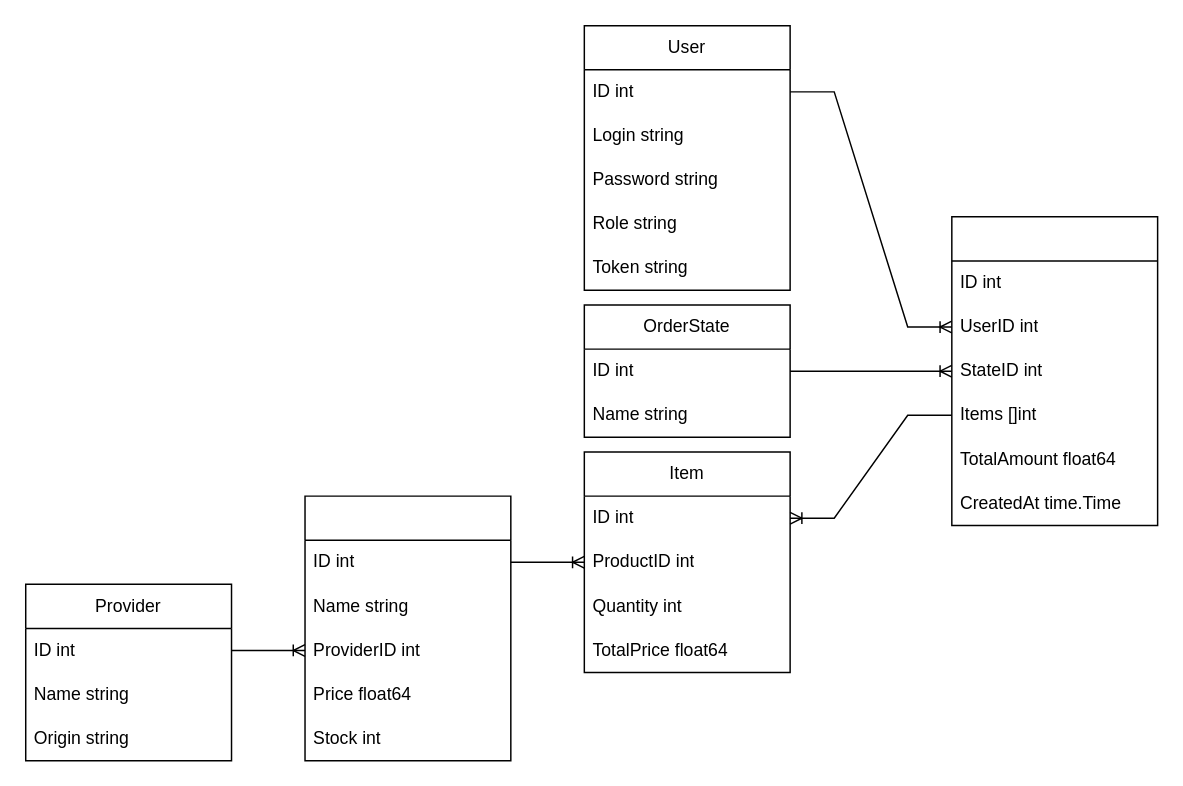
The diagram is 1183 pixels wide and 786 high, and some of its shapes have lost their labels. The shapes that lost their labels are listed below. From the top down, each one's box as (x1, y1, x2, y2) in pixels, then its label:
(950, 215, 1158, 526): Order
(304, 495, 511, 761): Product
